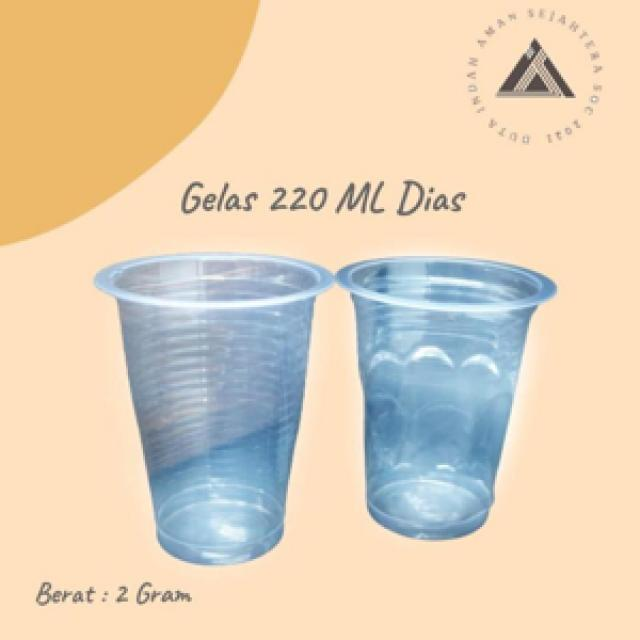plastic cup: (90, 248, 335, 570), (333, 252, 561, 544)
